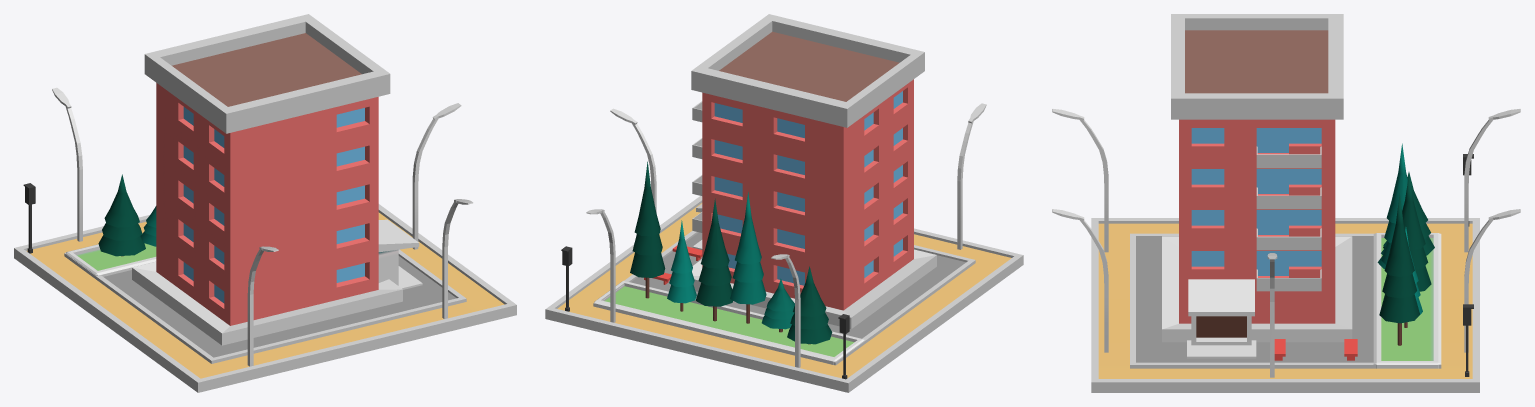
Rendered from house3.fbx.
The picture shows the model from 3 angles, left to right: view 1: azimuth 30°, elevation 25°; view 2: azimuth 150°, elevation 25°; view 3: azimuth 270°, elevation 25°; orthographic projection. The views are drawn at different scales.
Parts seen in each view (by area): view 1: House_2; view 2: House_2; view 3: House_2.
Part boxes in pixels (x1,y1,x2,y2): House_2: (14,14,516,392); House_2: (545,14,1023,392); House_2: (1052,14,1520,392).
Size of the model in its own units: 759 by 503 by 838.
